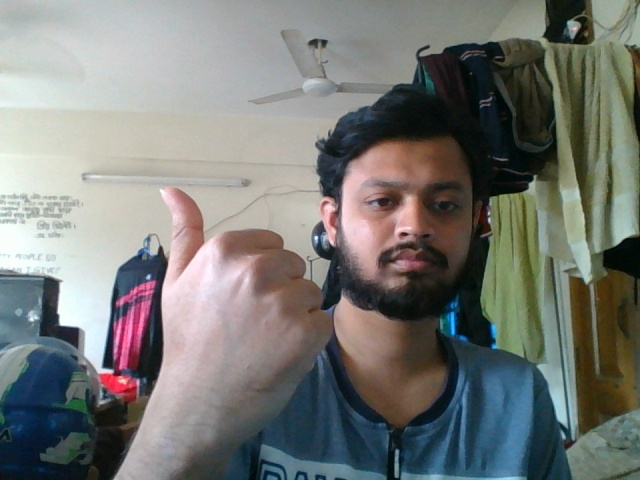do: (125, 185, 344, 466)
